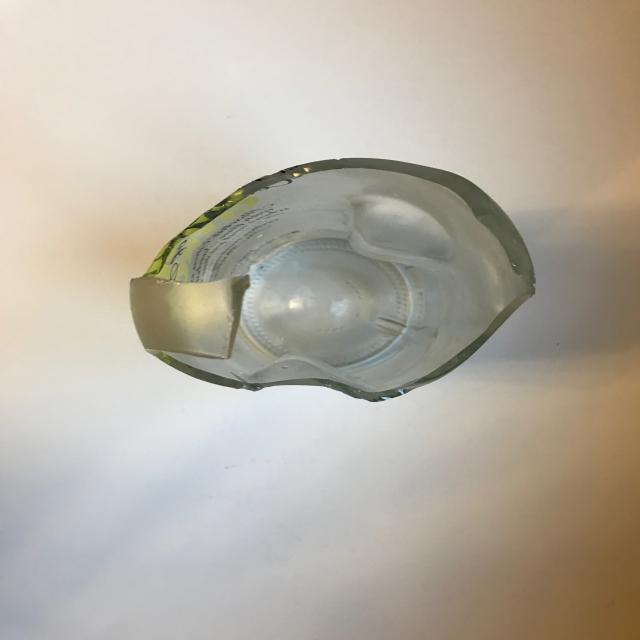glass: (122, 157, 538, 400)
